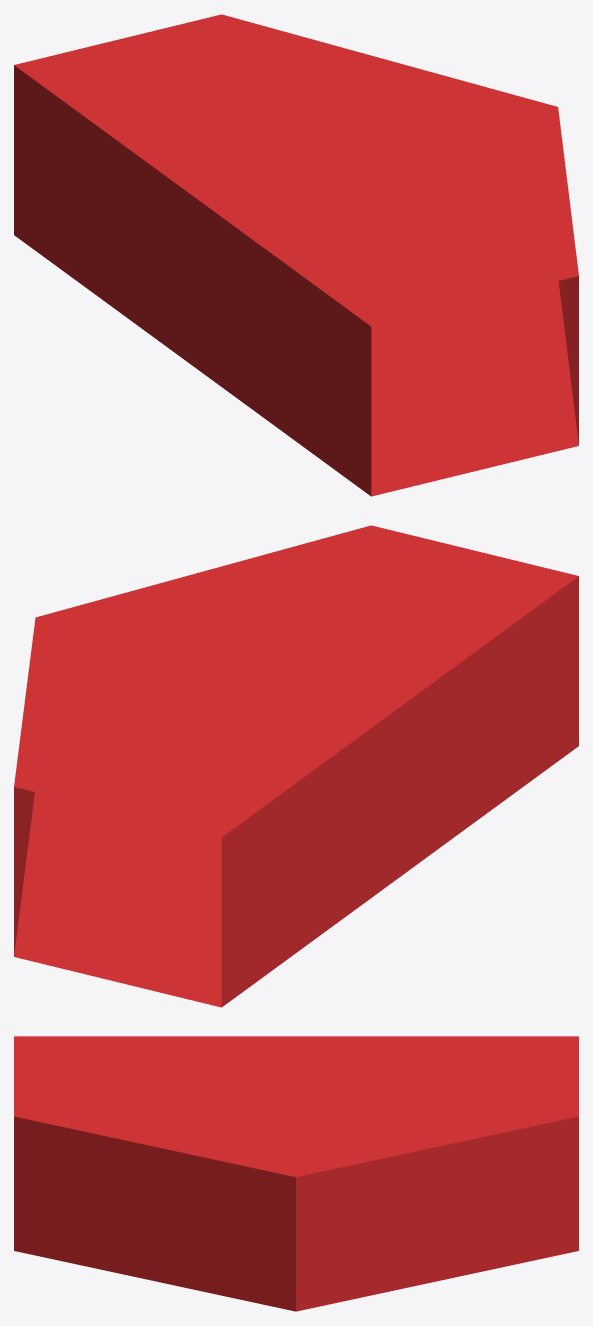
Rendered from FrameColliderLeftMarginBump.fbx.
3 views of the same model, one above another, from view 1: azimuth 30°, elevation 25°; view 2: azimuth 150°, elevation 25°; view 3: azimuth 270°, elevation 25° (orthographic). The views are drawn at different scales.
Parts seen in each view (by area): view 1: ColliderLeftMarginBump; view 2: ColliderLeftMarginBump; view 3: ColliderLeftMarginBump.
Boxes of the visible parts, x1,y1,x2,y2 form: ColliderLeftMarginBump: (14, 14, 578, 496); ColliderLeftMarginBump: (14, 525, 578, 1007); ColliderLeftMarginBump: (14, 1036, 578, 1311).
Size of the model in its own units: 36.57 by 16.27 by 61.97.
